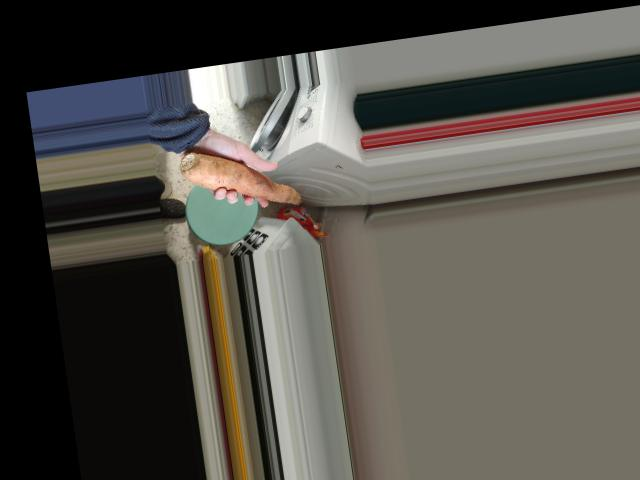sweet_potato: (175, 133, 311, 225)
